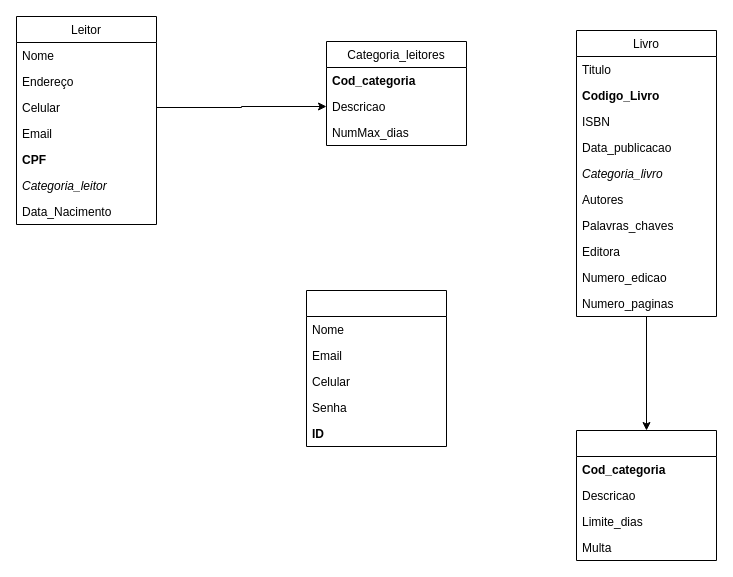
This 733x577 diagram has some shape labels left out. Each missing label, with the box of its shape:
Categoria_livros: (576, 430, 716, 560)
Login: (306, 290, 446, 446)
